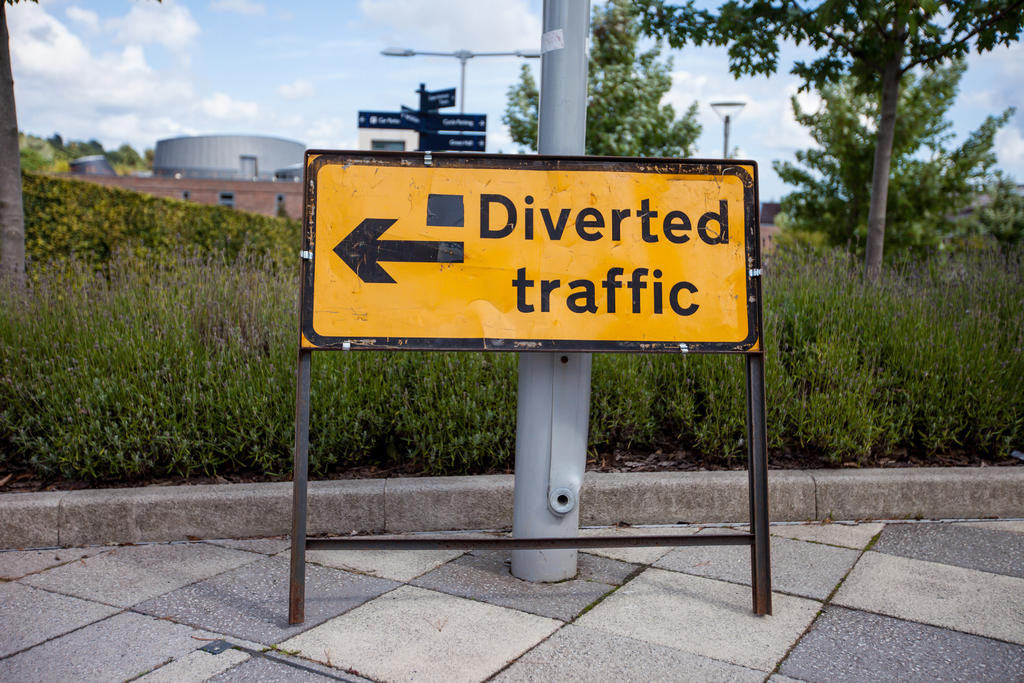left_turn: (332, 212, 467, 299)
